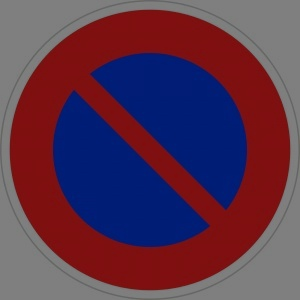Prohibition_sign: (1, 2, 297, 300)
